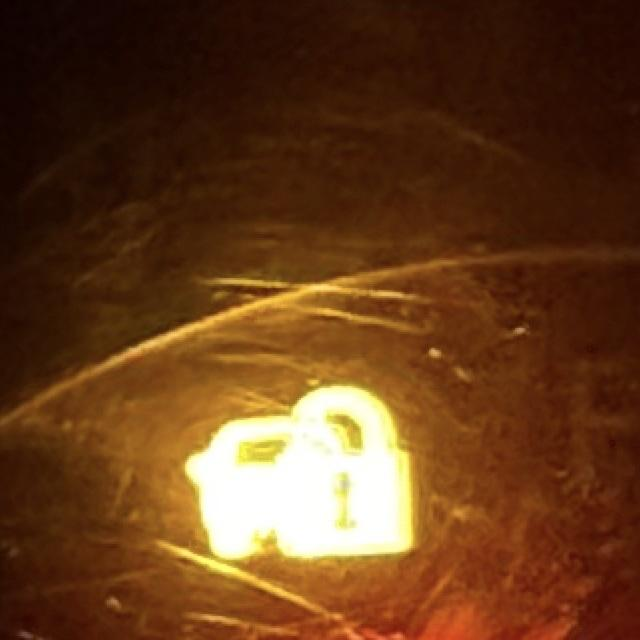Car SecurityWarning: (183, 385, 421, 565)
